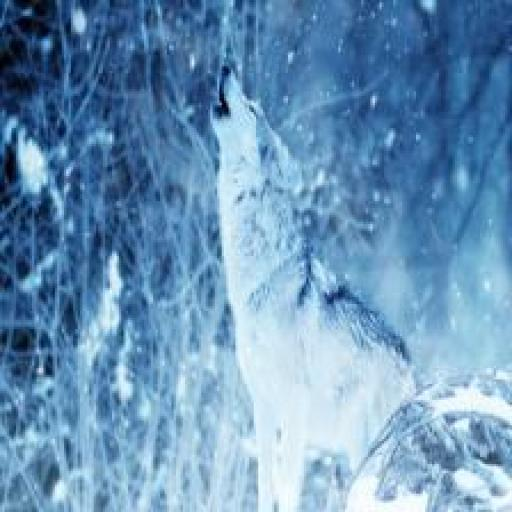wolf: (210, 57, 420, 512)
